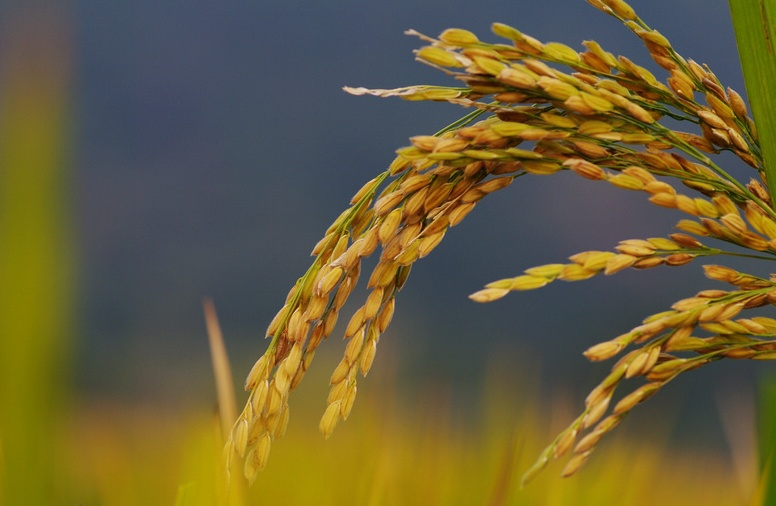rice: (223, 26, 775, 482)
